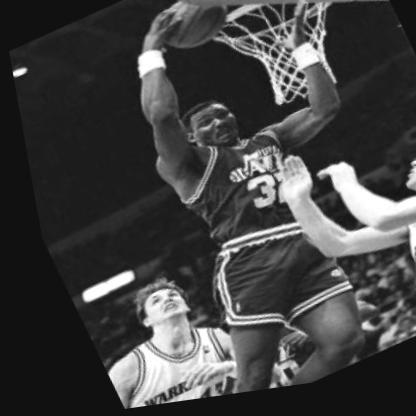basketball: (140, 0, 245, 71)
